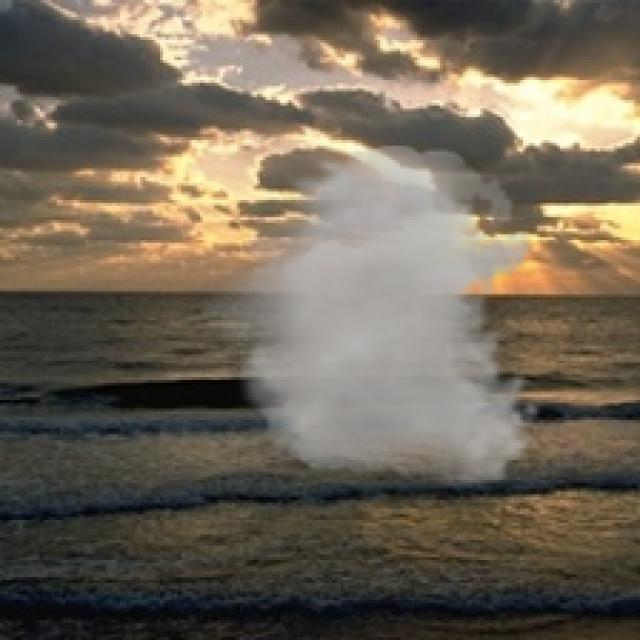smoke: (194, 146, 543, 488)
